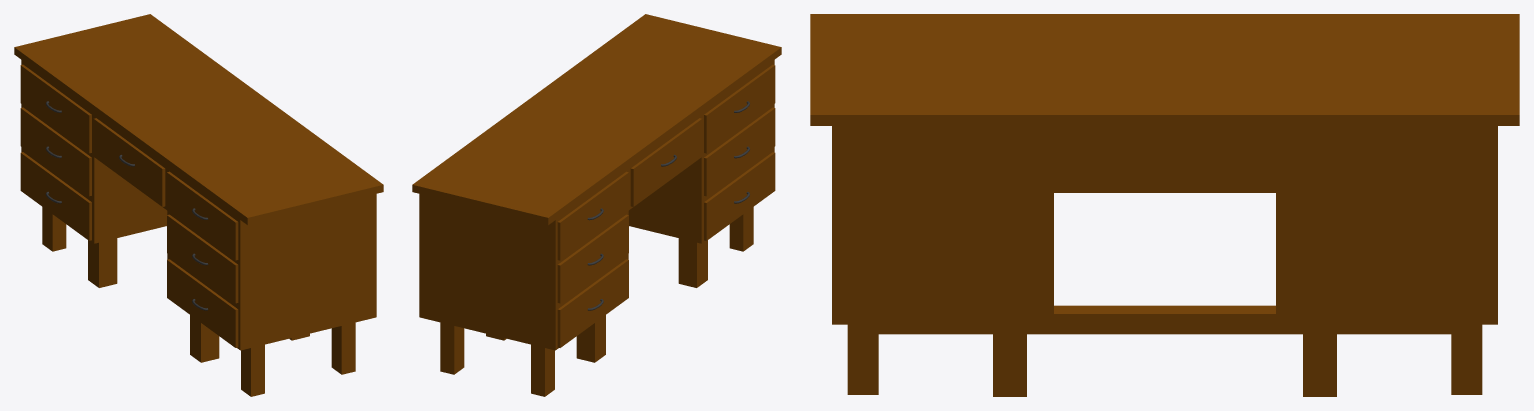
File: low poly heavy desk with drawers 011.fbx
The picture shows the model from 3 angles, left to right: view 1: azimuth 30°, elevation 25°; view 2: azimuth 150°, elevation 25°; view 3: azimuth 270°, elevation 25°; orthographic projection. The views are drawn at different scales.
Visible parts, largest first — view 1: heavy_desk_dravers; view 2: heavy_desk_dravers; view 3: heavy_desk_dravers.
Boxes of the visible parts, left/top/right/bottom form: heavy_desk_dravers: left=14, top=14, right=383, bottom=396; heavy_desk_dravers: left=412, top=14, right=781, bottom=396; heavy_desk_dravers: left=810, top=14, right=1519, bottom=396.
Bounding box in the file's own units: 2.4 × 3.05 × 6.71.
